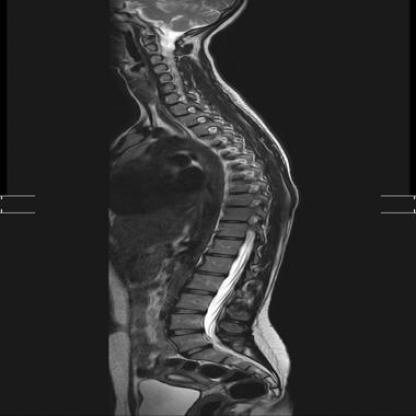Disc Bulgerotation: (223, 201, 254, 211), (227, 187, 254, 197), (230, 174, 252, 184), (154, 68, 170, 78)
